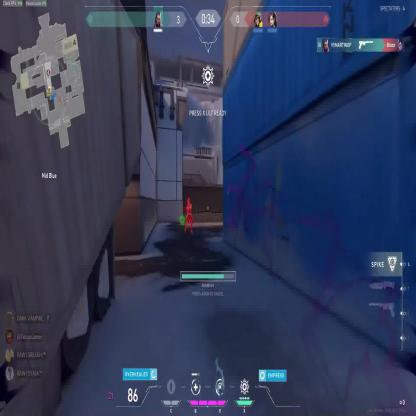enemy: (184, 197, 194, 234)
enemy_head: (187, 197, 190, 204)
